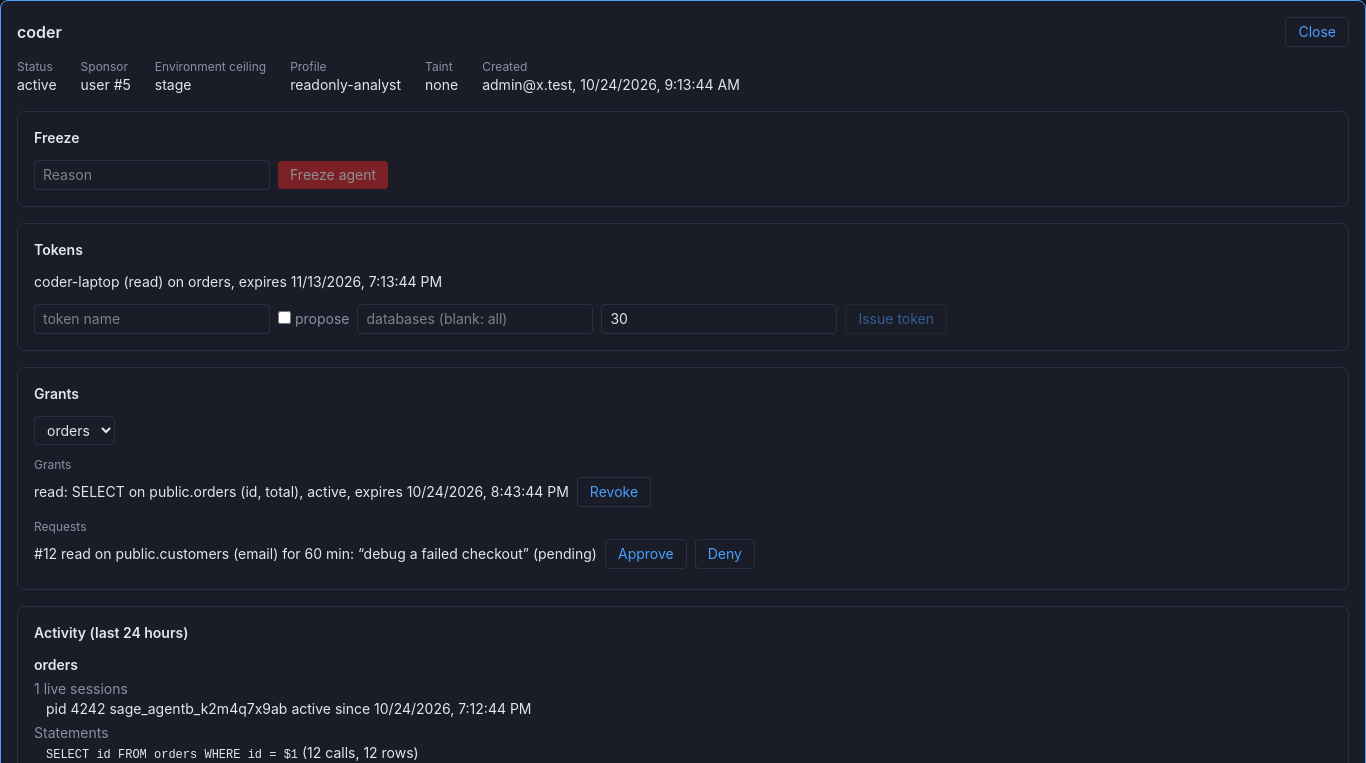
Test: AgentDetail grants › shows a blocked approval with its reason and fix
Expected: the text "active" is shown, [17, 75, 57, 95]
Step 1. Click the button with test id "agent-request-approve-12" → (646, 554), box [605, 539, 687, 569]
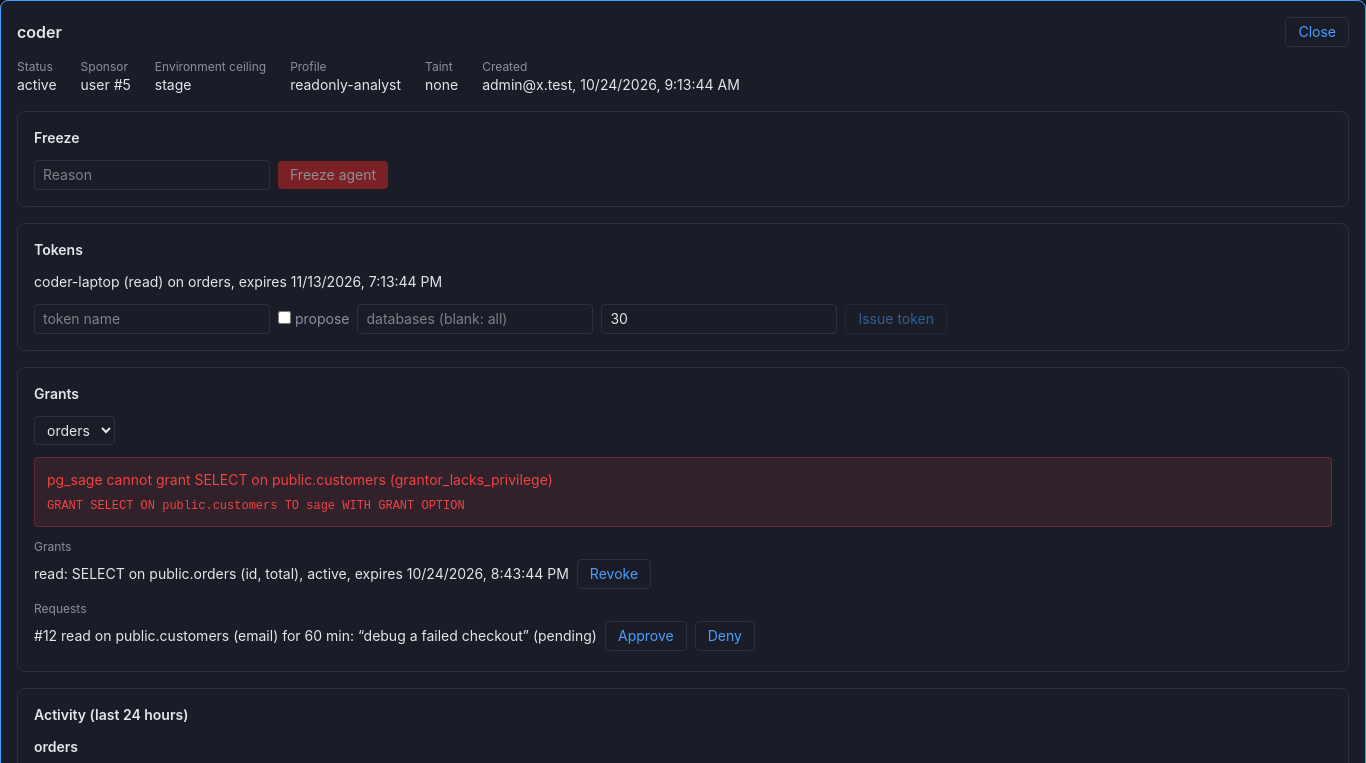
Expected: the message with test id "agent-grants-error" shows "grantor_lacks_privilege", [395, 471, 548, 488]
Expected: the message with test id "agent-grants-error" shows "WITH GRANT OPTION", [47, 499, 465, 513]
